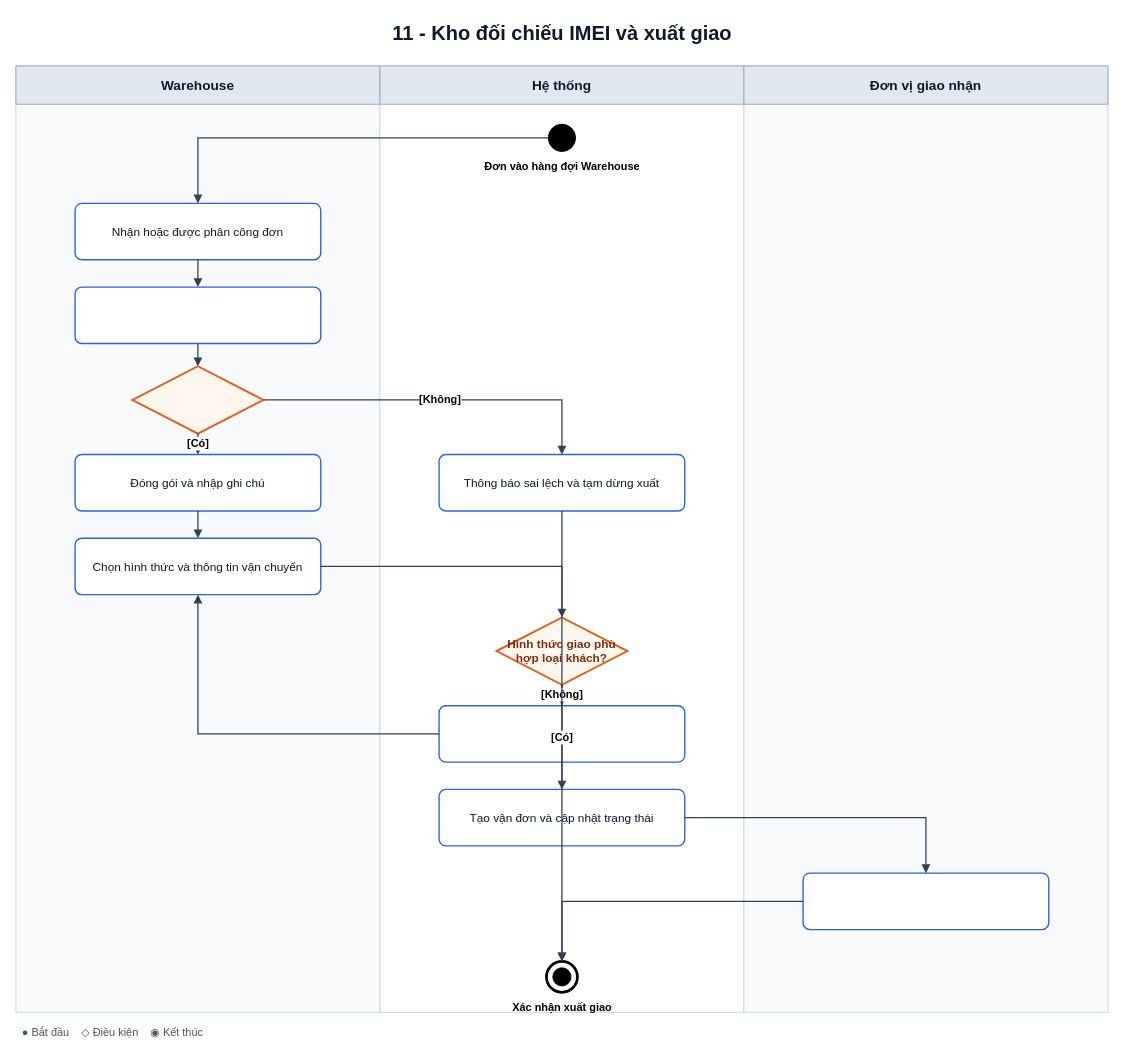
This 1124x1060 diagram has some shape labels left out. Each missing label, with the centre of its shape:
Tiếp nhận kiện hàng: [925,901]
Từ chối hình thức giao không hợp lệ: [561,733]
Đối chiếu IMEI thực tế từng thiết bị: [197,315]
Đủ và đúng IMEI?: [197,399]
